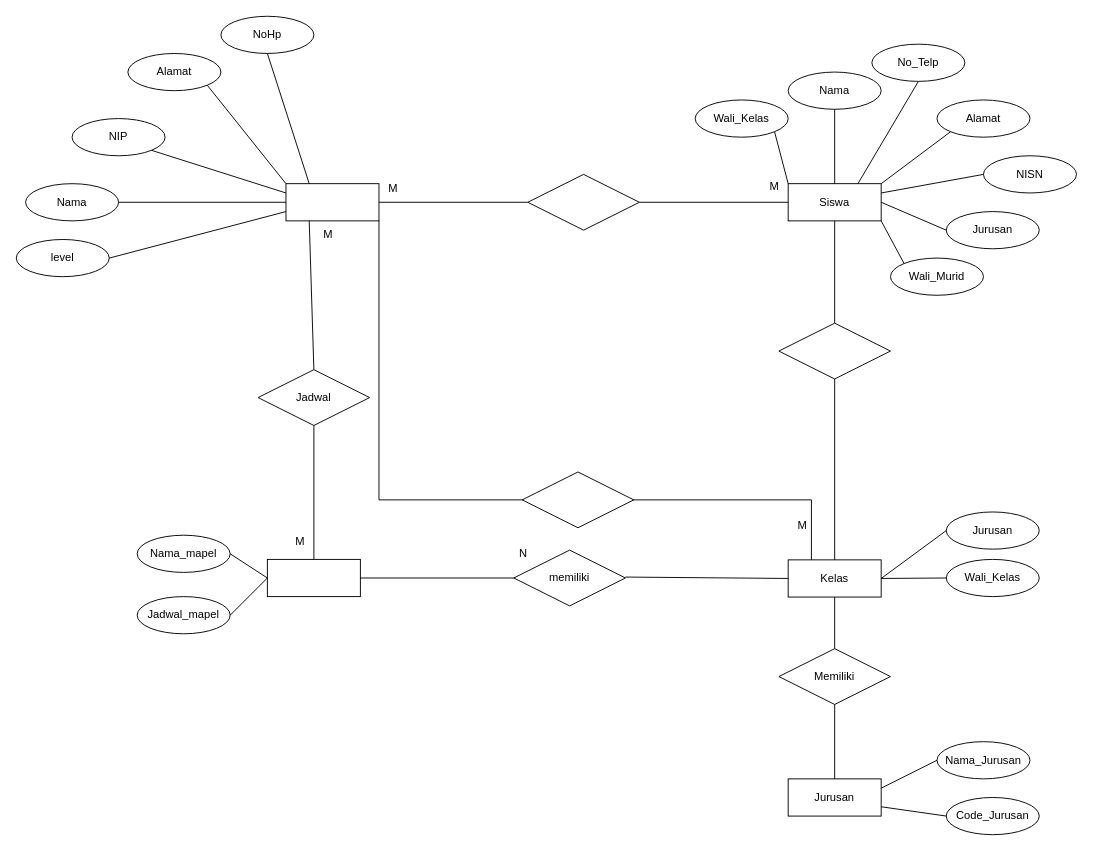
Some shapes in this 1093 by 851 pixel diagram are drawn without their labels. Here are the shapes that lost their labels. From the top down, the centre of each, then its label:
At (x=332, y=202): "Guru".
At (x=583, y=201): "Mengabsen".
At (x=834, y=350): "Masuk".
At (x=577, y=499): "Mengelola".
At (x=313, y=577): "Mapel".
